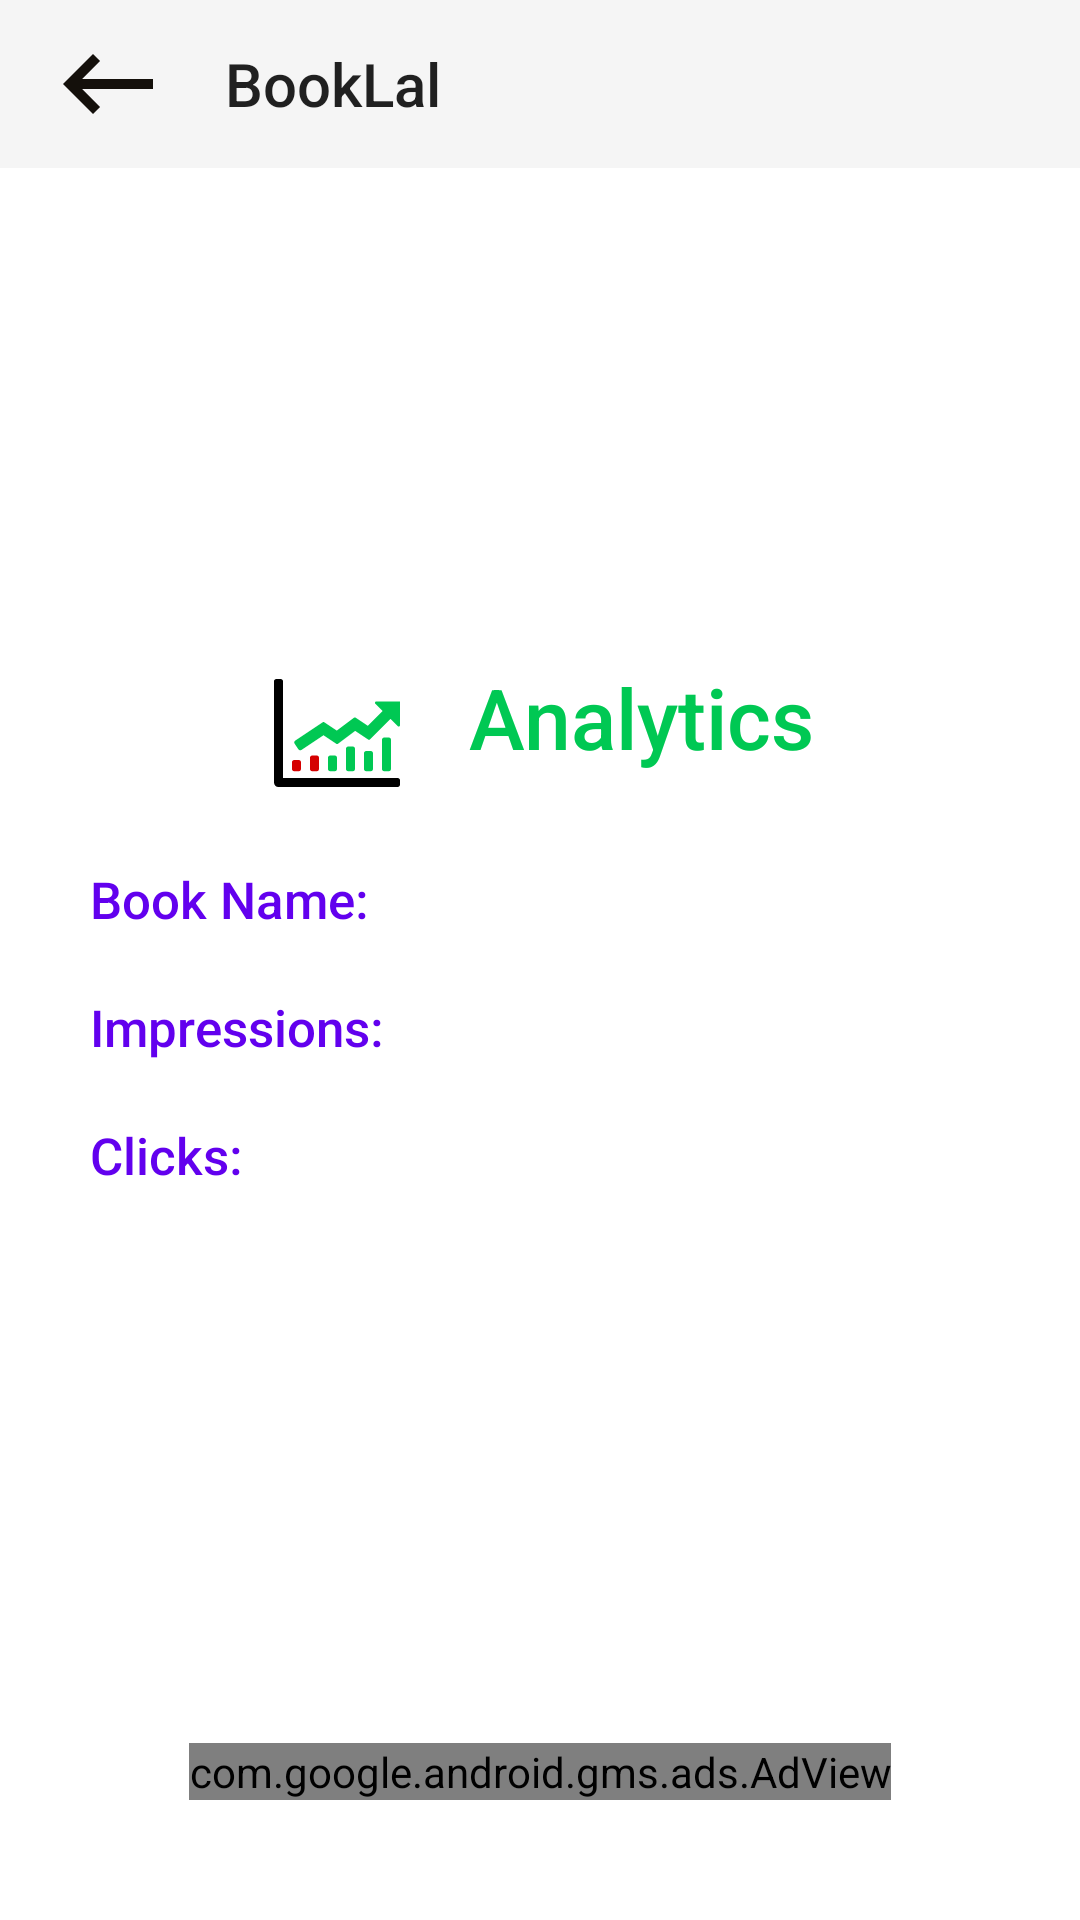

Icons on this 1080x1920 Android screen, each with its box as (x1, y1, x2, y2):
long back arrow: (63, 54, 153, 114)
stats: (274, 679, 400, 787)
